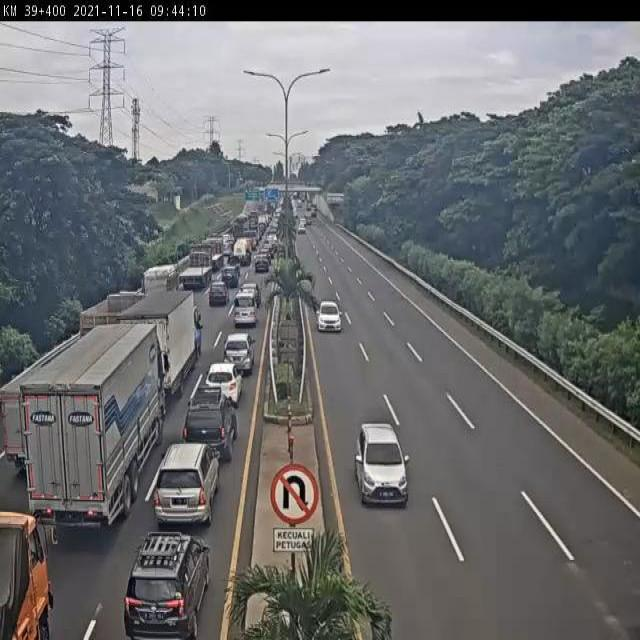car: (122, 520, 226, 640), (148, 436, 227, 544), (351, 409, 416, 528), (186, 383, 237, 468), (206, 358, 246, 418), (315, 290, 346, 342), (227, 329, 255, 384), (229, 290, 263, 326), (221, 261, 244, 291), (208, 280, 230, 307), (254, 252, 273, 277), (296, 223, 312, 237)
small truck: (3, 361, 82, 480)
truck-l-: (23, 318, 168, 530), (181, 245, 212, 292), (193, 239, 224, 272)
truck-m-: (120, 281, 200, 392), (78, 277, 150, 344), (146, 256, 187, 305)
